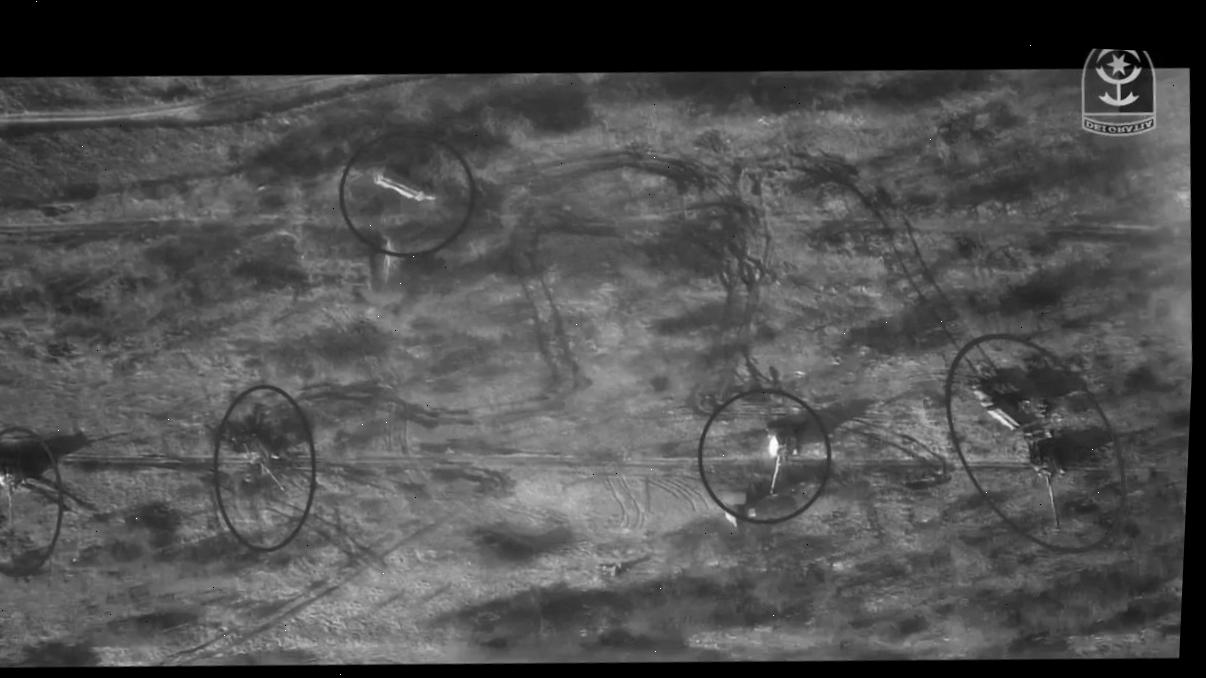sau: (1024, 442, 1069, 528), (231, 427, 288, 493), (759, 419, 802, 496), (0, 453, 29, 536)
truck: (969, 378, 1023, 433), (370, 161, 438, 203)
